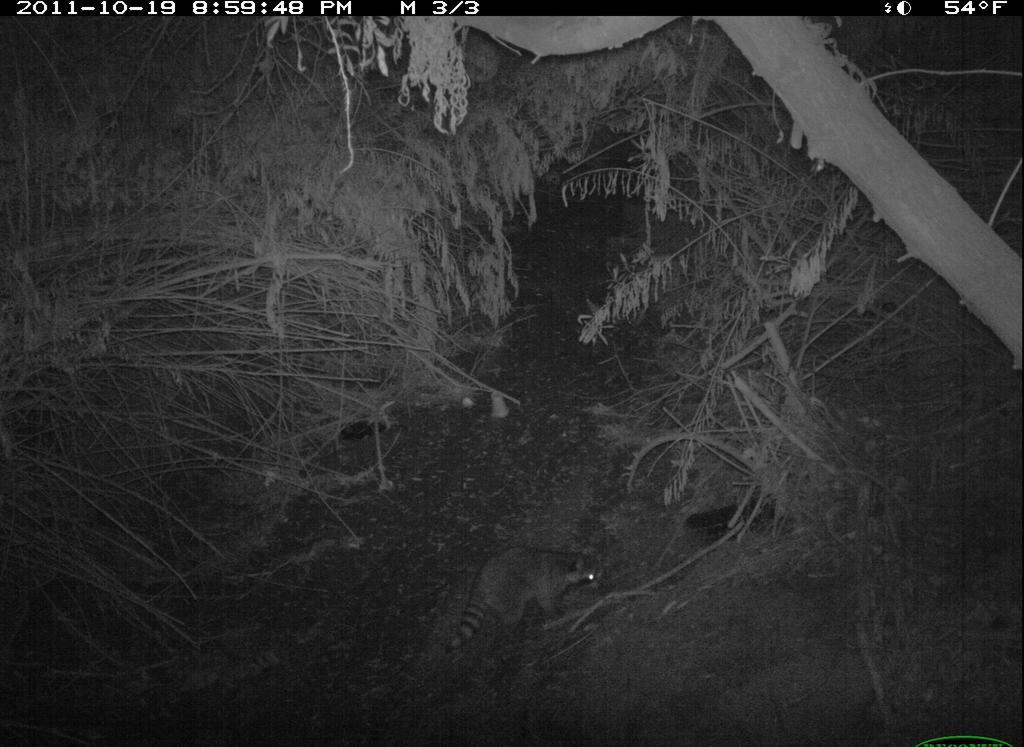raccoon: (436, 533, 625, 657)
